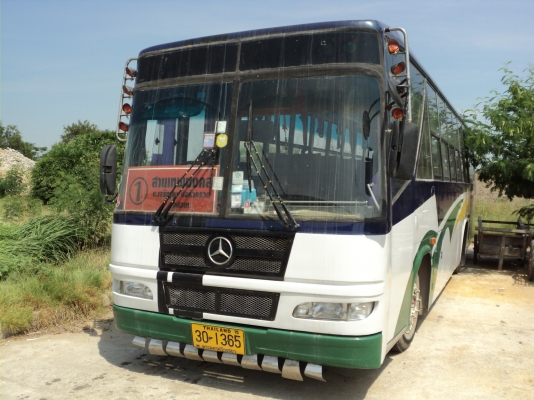bus: (109, 18, 477, 370)
